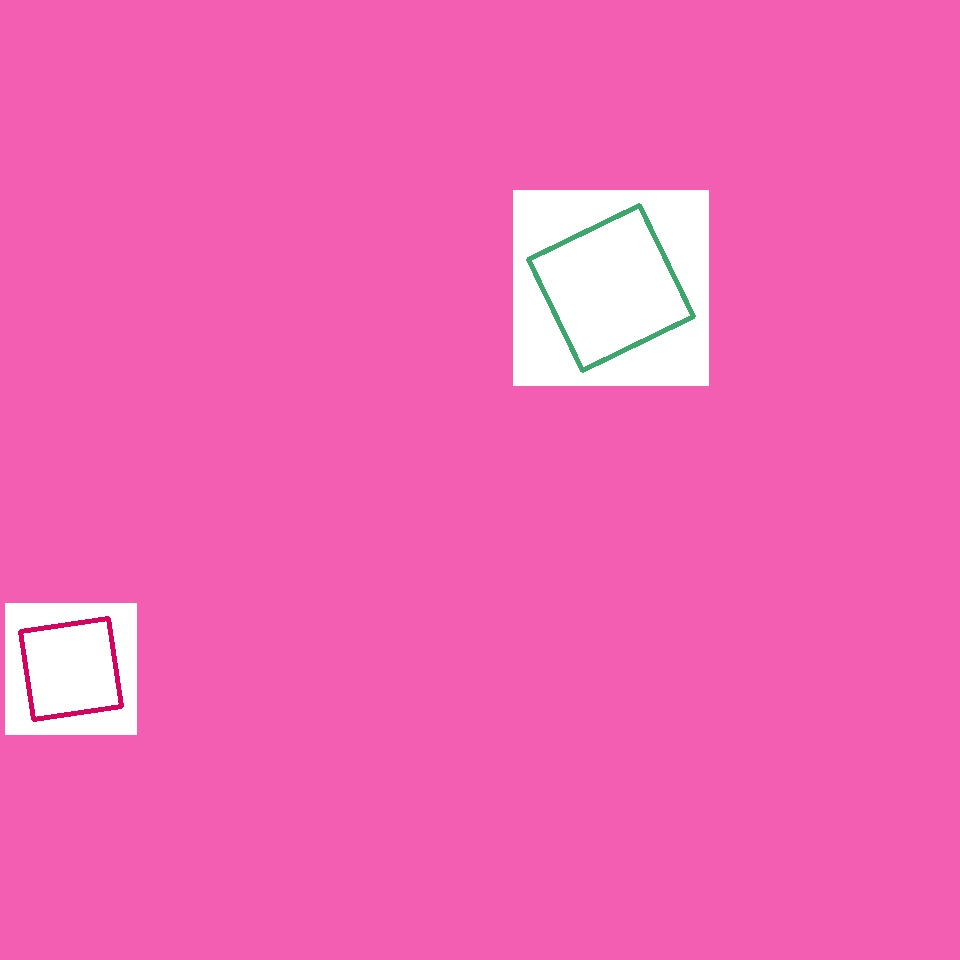circle: (190, 44, 284, 142)
square: (306, 582, 597, 873), (528, 206, 694, 370), (594, 154, 710, 270), (20, 618, 122, 720)
